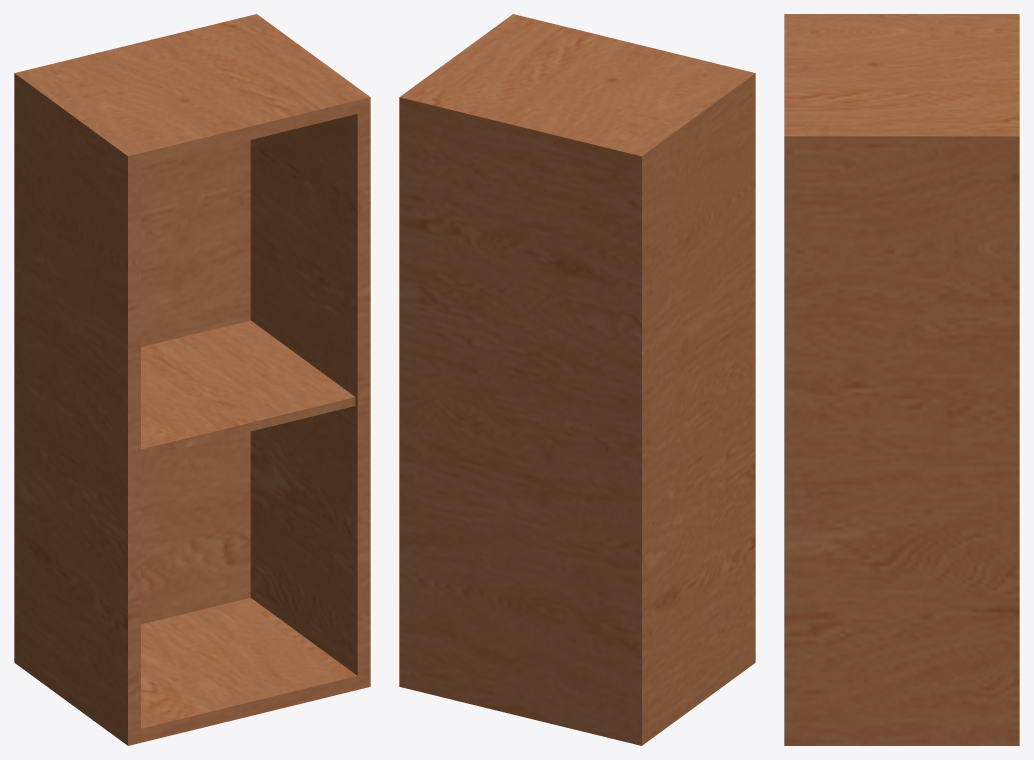
The model's file is Closet12.fbx.
3 views of the same model, side by side, from view 1: azimuth 30°, elevation 25°; view 2: azimuth 150°, elevation 25°; view 3: azimuth 270°, elevation 25° (orthographic). The views are drawn at different scales.
Parts seen in each view (by area): view 1: Closet12; view 2: Closet12; view 3: Closet12.
Boxes of the visible parts, x1=… form: Closet12: x1=14, y1=14, x2=370, y2=745; Closet12: x1=399, y1=14, x2=755, y2=745; Closet12: x1=784, y1=14, x2=1019, y2=745.
Size of the model in its own units: 109 by 254 by 88.93.
